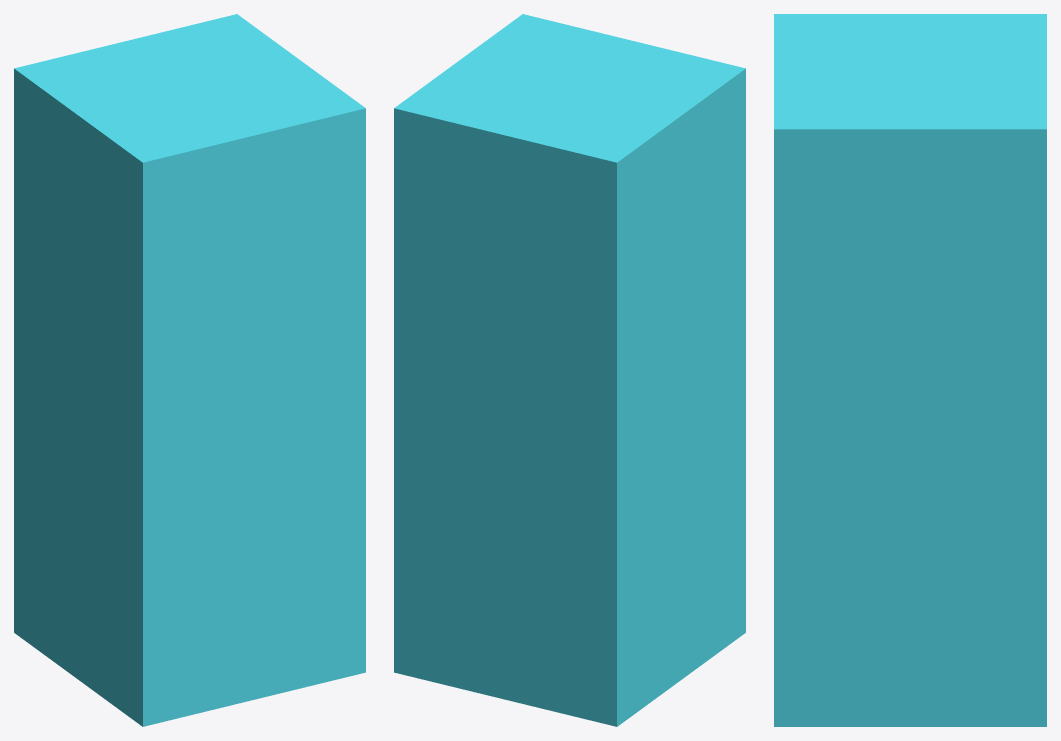
File: block_destroyed.fbx
The picture shows the model from 3 angles, left to right: view 1: azimuth 30°, elevation 25°; view 2: azimuth 150°, elevation 25°; view 3: azimuth 270°, elevation 25°; orthographic projection. The views are drawn at different scales.
Visible parts, largest first — view 1: block_part1, block_part2, block_part3; view 2: block_part2, block_part1, block_part3; view 3: block_part1, block_part2, block_part3.
Part boxes in pixels (<box>): block_part1: <box>14,343,365,726</box>; block_part2: <box>14,14,365,285</box>; block_part3: <box>14,232,365,482</box>; block_part2: <box>394,14,745,326</box>; block_part1: <box>394,350,745,726</box>; block_part3: <box>394,192,745,553</box>; block_part1: <box>774,378,1046,726</box>; block_part2: <box>774,14,1046,318</box>; block_part3: <box>774,292,1046,384</box>.
Bounding box in the file's own units: 82.78 × 200 × 82.78.
